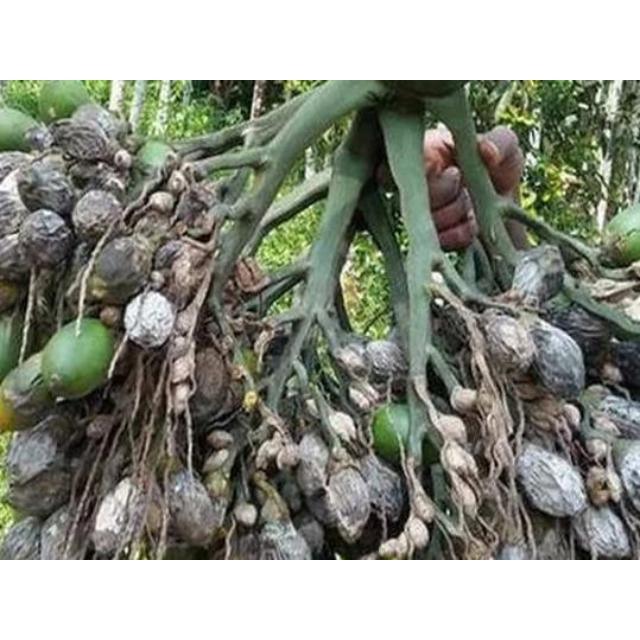damaged: (5, 418, 80, 512), (160, 468, 223, 550), (516, 445, 586, 517), (90, 476, 148, 556), (321, 464, 373, 540), (547, 306, 611, 362), (16, 160, 76, 218), (16, 208, 72, 270), (160, 238, 212, 304), (480, 312, 536, 373), (356, 456, 404, 526), (510, 246, 566, 306), (572, 504, 630, 560), (71, 189, 123, 243), (294, 431, 332, 497), (434, 300, 476, 354), (594, 394, 640, 442), (174, 182, 216, 232), (68, 102, 120, 142), (614, 441, 640, 519), (76, 160, 126, 200), (363, 340, 407, 384), (2, 516, 44, 560), (256, 326, 294, 374), (36, 408, 78, 450), (130, 204, 172, 246), (333, 341, 371, 383), (612, 342, 640, 394), (0, 190, 28, 242), (294, 514, 326, 556), (154, 240, 188, 274), (149, 448, 183, 482), (326, 410, 358, 446), (201, 468, 231, 502), (476, 387, 502, 425), (85, 413, 119, 442), (254, 440, 284, 472), (0, 152, 30, 184), (434, 414, 468, 442), (452, 478, 478, 514), (278, 478, 304, 514), (173, 302, 200, 336), (170, 350, 194, 386), (201, 448, 233, 474), (406, 516, 430, 550), (446, 447, 472, 477), (450, 386, 480, 412), (412, 494, 436, 524), (148, 190, 175, 216), (232, 502, 258, 528), (276, 444, 300, 472), (1, 277, 22, 309), (378, 536, 404, 560), (346, 388, 372, 412), (205, 430, 235, 450), (172, 380, 192, 410), (98, 304, 122, 328), (584, 438, 608, 462), (560, 404, 582, 428), (167, 170, 189, 194), (113, 149, 133, 171), (304, 398, 322, 420), (148, 270, 166, 290)
